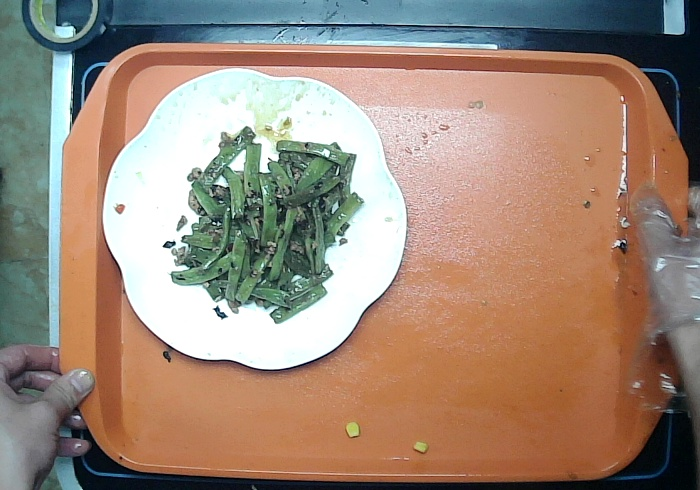HZYJPL-Bai_Se_Hua_Duo_Wan: (100, 68, 409, 374)
